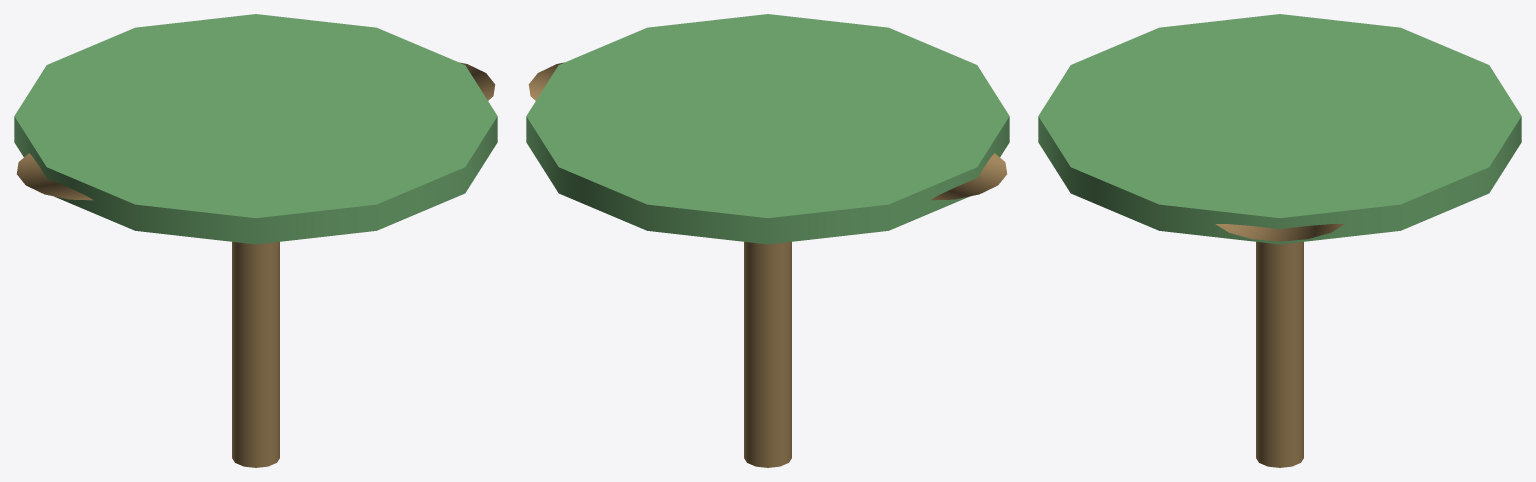
Rendered from env-ww-pokertable.glb.
The picture shows the model from 3 angles, left to right: view 1: azimuth 30°, elevation 25°; view 2: azimuth 150°, elevation 25°; view 3: azimuth 270°, elevation 25°; orthographic projection.
Bounding box in the file's own units: 1.1 × 0.78 × 1.
